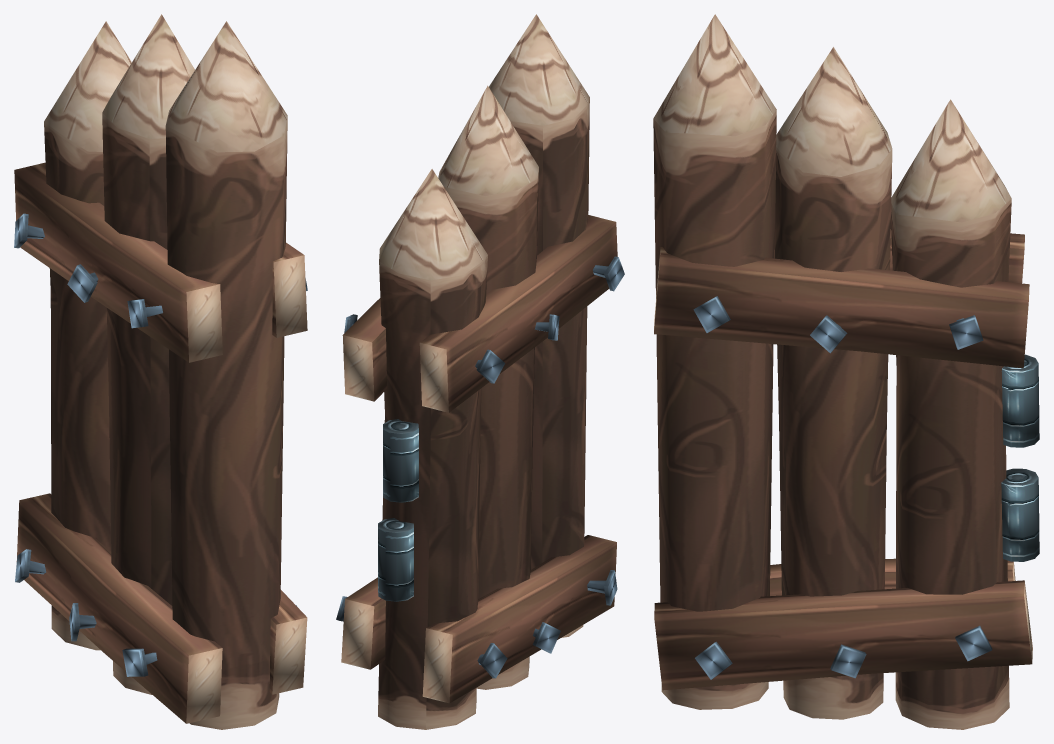
File: gates_right_02.fbx
3 renders of one model, left to right at view 1: azimuth 30°, elevation 25°; view 2: azimuth 150°, elevation 25°; view 3: azimuth 270°, elevation 25°, orthographic. The views are drawn at different scales.
Parts seen in each view (by area): view 1: gates_right_02; view 2: gates_right_02; view 3: gates_right_02.
Boxes of the visible parts, x1=… form: gates_right_02: x1=14, y1=14, x2=307, y2=729; gates_right_02: x1=336, y1=14, x2=624, y2=729; gates_right_02: x1=653, y1=14, x2=1039, y2=729.
Bounding box in the file's own units: 2.57 × 9.49 × 4.81.
